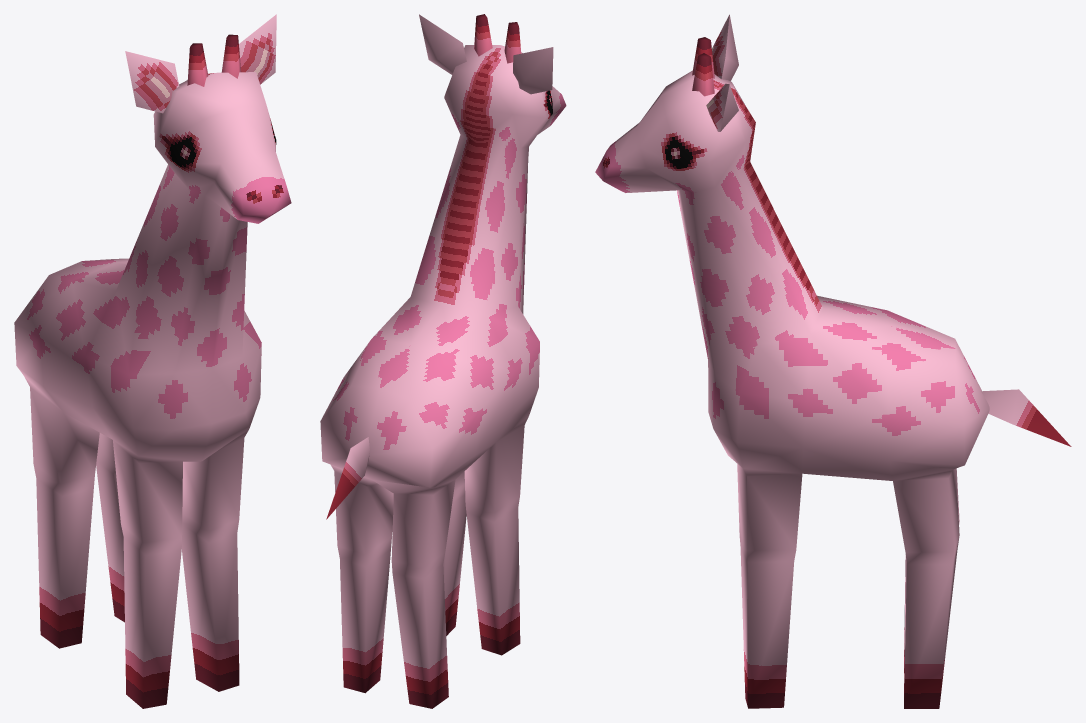
File: giraffe.obj
3 views of the same model, side by side, from view 1: azimuth 30°, elevation 25°; view 2: azimuth 150°, elevation 25°; view 3: azimuth 270°, elevation 25° (orthographic). The views are drawn at different scales.
Parts seen in each view (by area): view 1: polygon1, polygon0; view 2: polygon1, polygon0; view 3: polygon1, polygon0.
Boxes of the visible parts, left/top/right/bottom form: polygon1: left=14, top=258, right=261, bottom=708; polygon0: left=116, top=14, right=291, bottom=373; polygon1: left=320, top=297, right=539, bottom=708; polygon0: left=410, top=14, right=566, bottom=315; polygon1: left=708, top=295, right=1071, bottom=708; polygon0: left=595, top=14, right=823, bottom=374.
Size of the model in its own units: 1.57 by 6.58 by 4.45.
